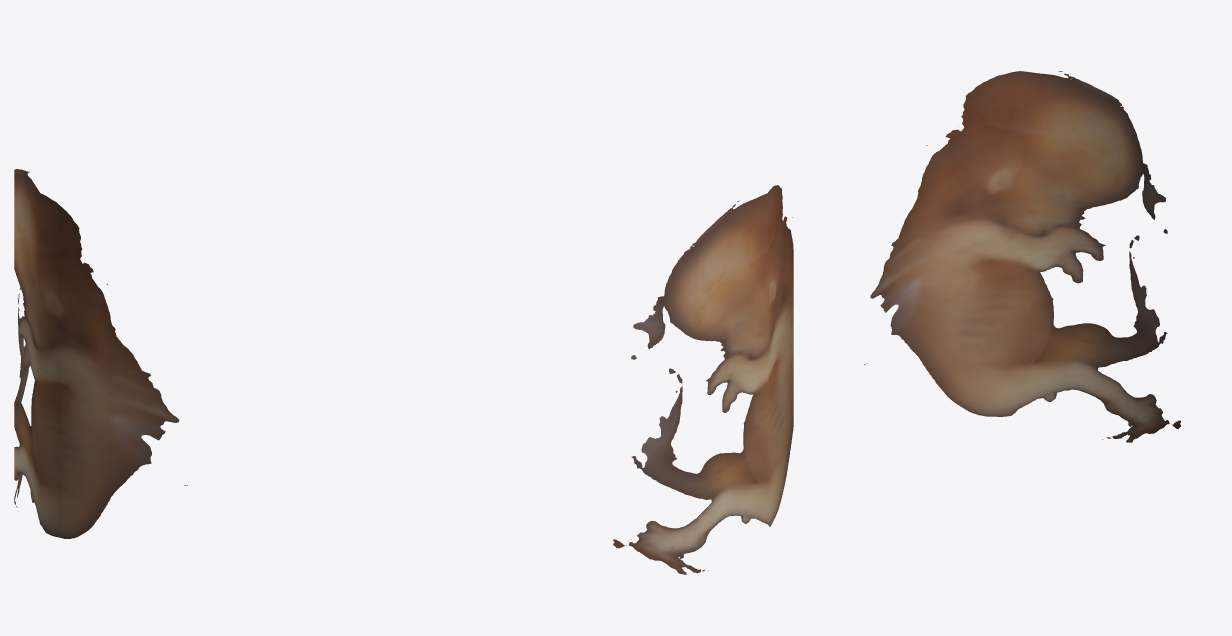
File: Props_Roh_Containment.FBX
The picture shows the model from 3 angles, left to right: view 1: azimuth 30°, elevation 25°; view 2: azimuth 150°, elevation 25°; view 3: azimuth 270°, elevation 25°; orthographic projection.
Visible parts, largest first — view 1: Props_Roh_Containment; view 2: Props_Roh_Containment; view 3: Props_Roh_Containment.
Part boxes in pixels (x1,y1,x2,y2): Props_Roh_Containment: (14, 169, 187, 538); Props_Roh_Containment: (613, 185, 793, 574); Props_Roh_Containment: (864, 71, 1180, 442).
Bounding box in the file's own units: 6.33 × 8.55 × 6.78.
